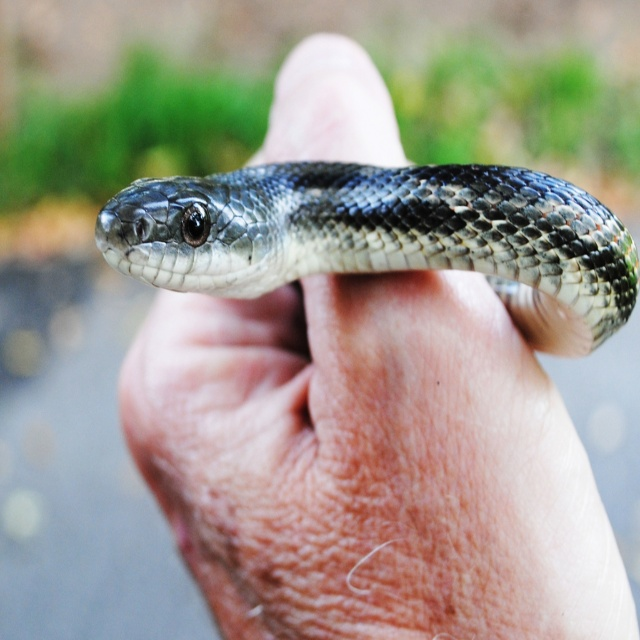Snake: (83, 133, 640, 401)
